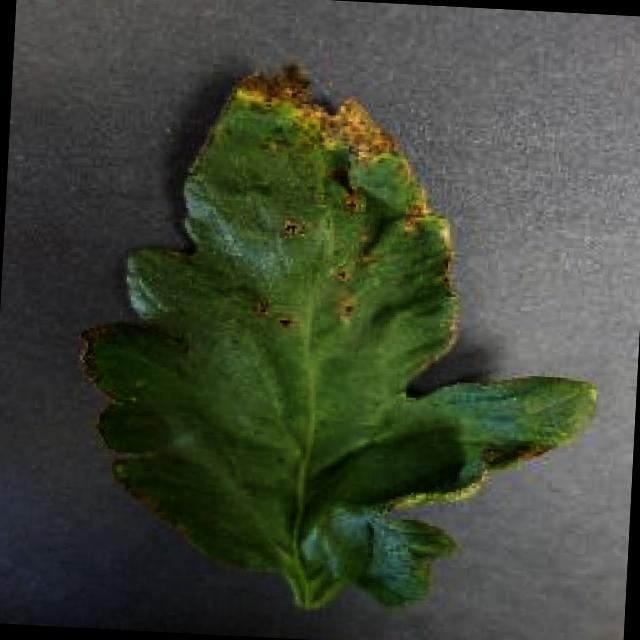Tomato bacterial spot leaf: (51, 37, 624, 634)
